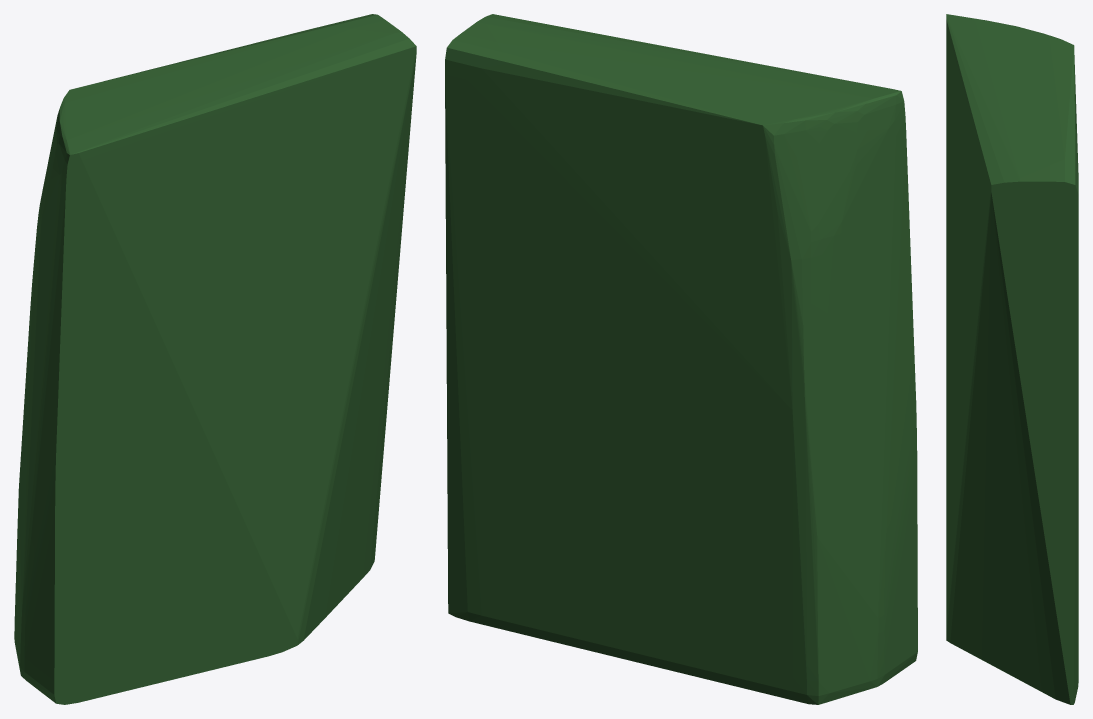
File: right-shoulder-pitch-0_part_19.obj
3 renders of one model, left to right at view 1: azimuth 30°, elevation 25°; view 2: azimuth 150°, elevation 25°; view 3: azimuth 270°, elevation 25°, orthographic. The views are drawn at different scales.
Bounding box in the file's own units: 0.0382 × 0.0524 × 0.0119.
